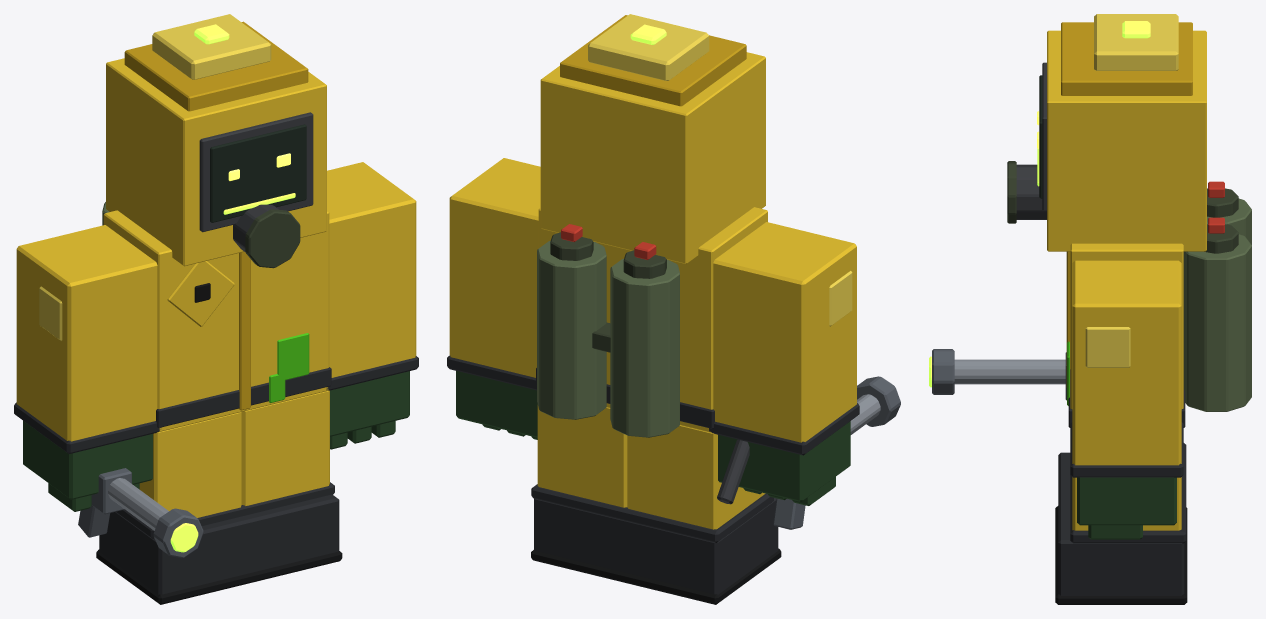
The model's file is myw_zombiehazmat.glb.
The picture shows the model from 3 angles, left to right: view 1: azimuth 30°, elevation 25°; view 2: azimuth 150°, elevation 25°; view 3: azimuth 270°, elevation 25°; orthographic projection.
Parts seen in each view (by area): view 1: Head, RightArm, Torso, LeftArm, RightLeg, LeftLeg, Hat, Sprayer; view 2: Head, RightArm, Torso, LeftArm, RightLeg, LeftLeg, Hat, Sprayer; view 3: Head, LeftArm, Torso, LeftLeg, Hat, Sprayer, RightLeg.
Boxes of the visible parts, x1=… form: Head: x1=106, y1=21, x2=326, y2=268; RightArm: x1=14, y1=225, x2=161, y2=511; Torso: x1=102, y1=202, x2=331, y2=431; LeftArm: x1=326, y1=162, x2=418, y2=449; RightLeg: x1=96, y1=412, x2=253, y2=604; LeftLeg: x1=241, y1=390, x2=342, y2=582; Hat: x1=152, y1=14, x2=271, y2=79; Sprayer: x1=78, y1=468, x2=203, y2=558; Head: x1=540, y1=15, x2=765, y2=263; RightArm: x1=709, y1=222, x2=859, y2=505; Torso: x1=536, y1=207, x2=767, y2=437; LeftArm: x1=447, y1=158, x2=540, y2=439; RightLeg: x1=622, y1=425, x2=781, y2=604; LeftLeg: x1=531, y1=405, x2=627, y2=582; Hat: x1=588, y1=14, x2=709, y2=80; Sprayer: x1=717, y1=376, x2=900, y2=529; Head: x1=1007, y1=22, x2=1206, y2=251; LeftArm: x1=1070, y1=260, x2=1183, y2=539; Torso: x1=1066, y1=181, x2=1251, y2=427; LeftLeg: x1=1055, y1=477, x2=1187, y2=604; Hat: x1=1094, y1=14, x2=1178, y2=70; Sprayer: x1=929, y1=349, x2=1066, y2=400; RightLeg: x1=1055, y1=443, x2=1187, y2=552.
Bounding box in the file's own units: 4.4 × 6.26 × 3.43.
